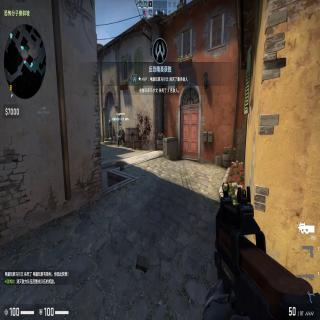CT-Body: (116, 125, 125, 148)
CT-Head: (119, 125, 122, 130)
